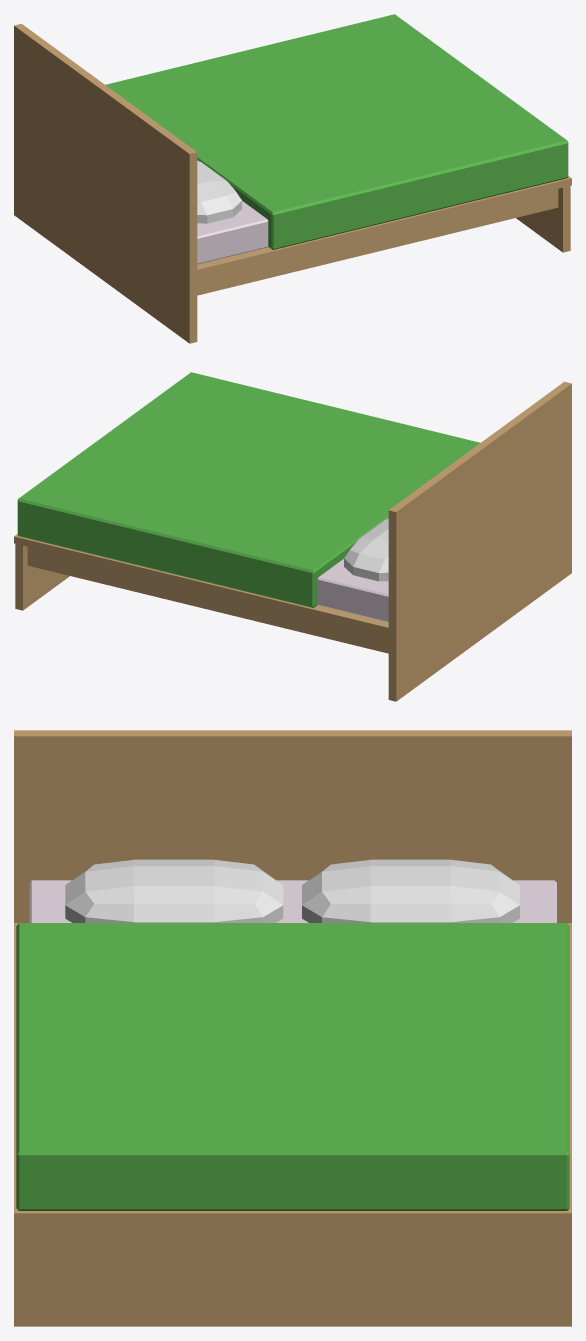
Rendered from bed.gltf.
3 views of the same model, one above another, from view 1: azimuth 30°, elevation 25°; view 2: azimuth 150°, elevation 25°; view 3: azimuth 270°, elevation 25° (orthographic). The views are drawn at different scales.
Parts seen in each view (by area): view 1: bed2_Matress_0.001, bed2, Cube.002; view 2: bed2_Matress_0.001, bed2, Cube.001; view 3: bed2_Matress_0.001, bed2, Cube.002, Cube.001.
Boxes of the visible parts, <box> form: bed2_Matress_0.001: <box>105,14,568,249</box>; bed2: <box>14,23,571,343</box>; Cube.002: <box>197,160,241,223</box>; bed2_Matress_0.001: <box>17,372,480,607</box>; bed2: <box>14,381,571,701</box>; Cube.001: <box>344,518,388,581</box>; bed2_Matress_0.001: <box>16,923,569,1210</box>; bed2: <box>14,730,571,1326</box>; Cube.002: <box>65,859,283,922</box>; Cube.001: <box>302,859,519,922</box>.
Bounding box in the file's own units: 211 × 100 × 168.
